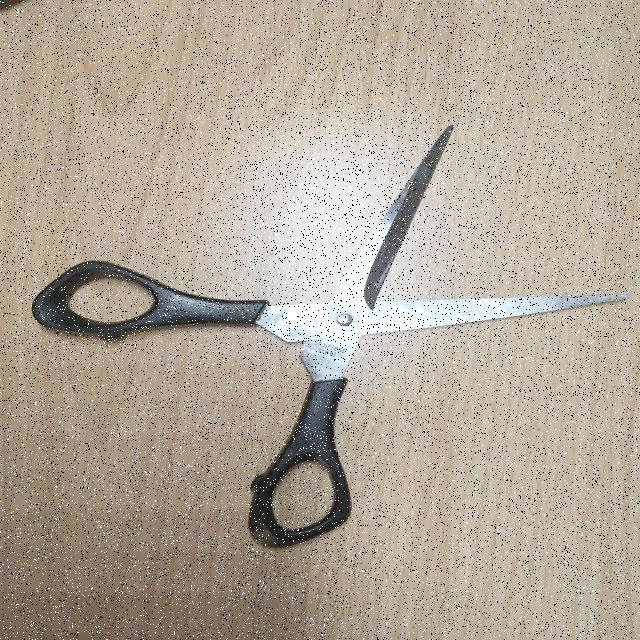scissors: (28, 121, 630, 554)
